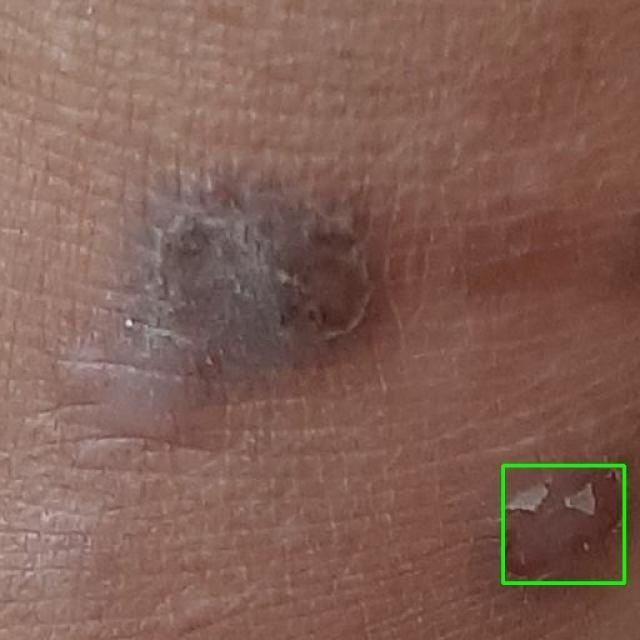Contact Dermatitis: (502, 465, 624, 582)
